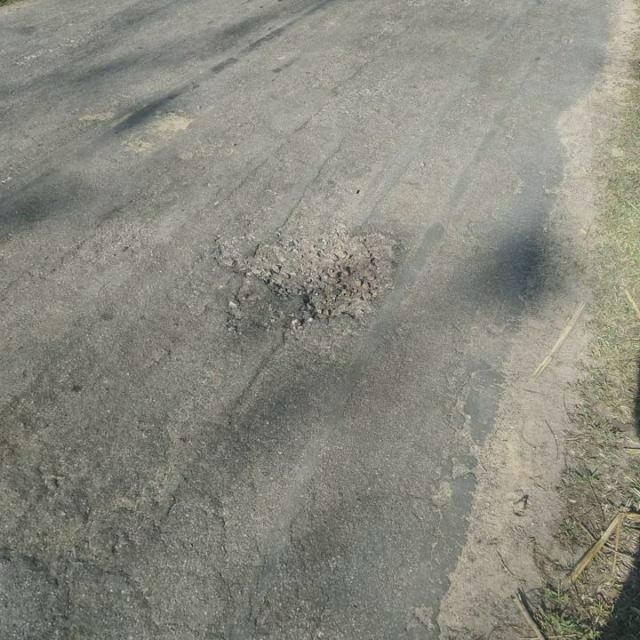Pothole: (215, 222, 406, 324)
